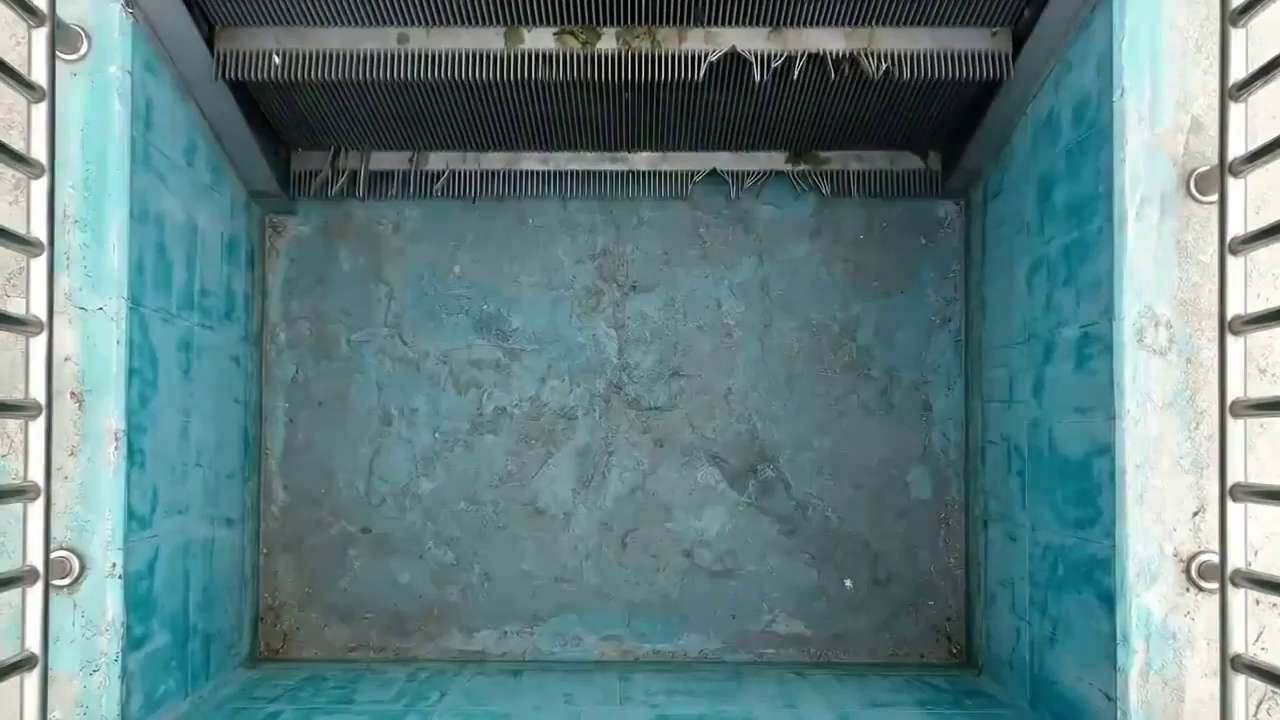damage: (688, 33, 920, 87), (668, 158, 859, 215), (303, 147, 463, 206)
